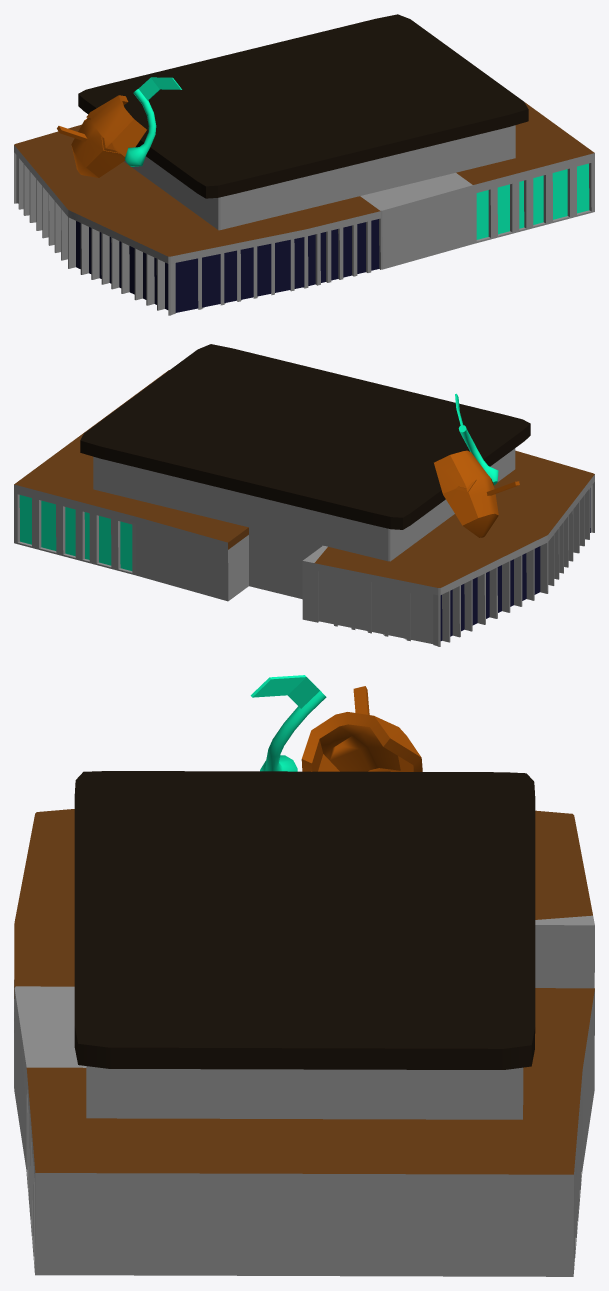
File: MOD_PlacedArt.FBX
3 views of the same model, one above another, from view 1: azimuth 30°, elevation 25°; view 2: azimuth 150°, elevation 25°; view 3: azimuth 270°, elevation 25° (orthographic). The views are drawn at different scales.
Parts seen in each view (by area): view 1: Place des arts, Masque, Line004; view 2: Place des arts, Masque, Line004; view 3: Place des arts, Masque, Line004.
Boxes of the visible parts, <box> form: Place des arts: <box>14,14,594,315</box>; Masque: <box>57,95,146,177</box>; Line004: <box>124,77,181,166</box>; Place des arts: <box>14,344,594,646</box>; Masque: <box>434,450,519,537</box>; Line004: <box>455,393,498,485</box>; Place des arts: <box>14,771,594,1276</box>; Masque: <box>301,686,422,771</box>; Line004: <box>250,675,326,771</box>.
Size of the model in its own units: 133 by 48.49 by 85.44.
